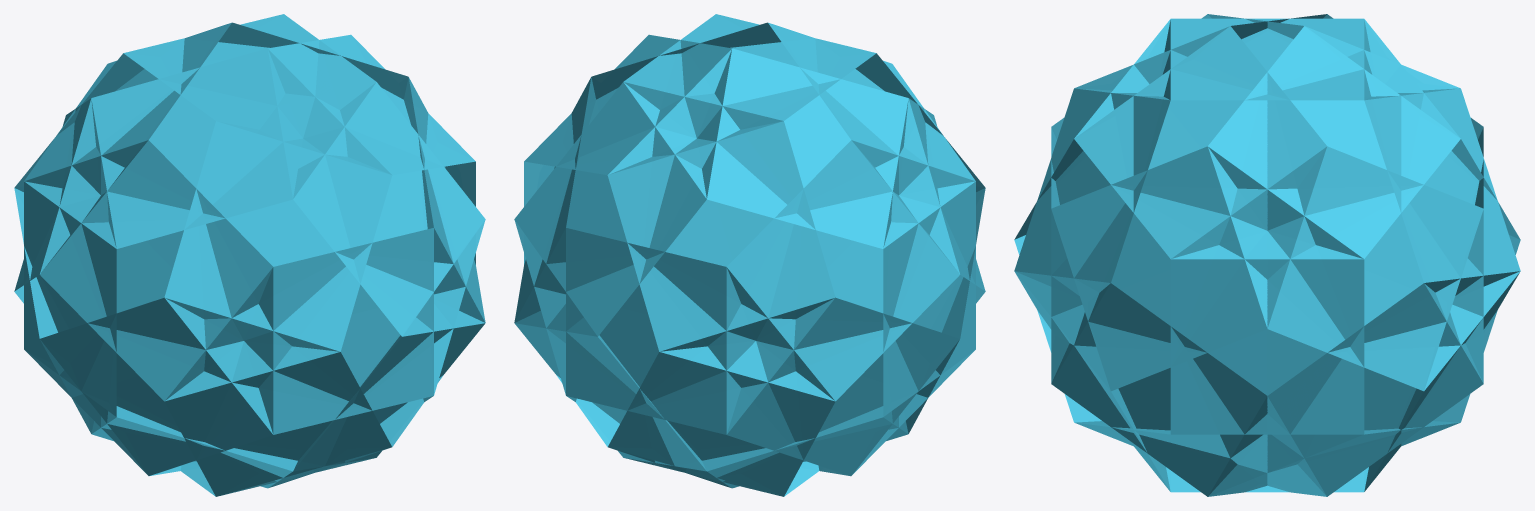
The model's file is fractalrhombicosahedron0.glb.
The picture shows the model from 3 angles, left to right: view 1: azimuth 30°, elevation 25°; view 2: azimuth 150°, elevation 25°; view 3: azimuth 270°, elevation 25°; orthographic projection. The views are drawn at different scales.
Bounding box in the file's own units: 12.54 × 12.54 × 12.54.
